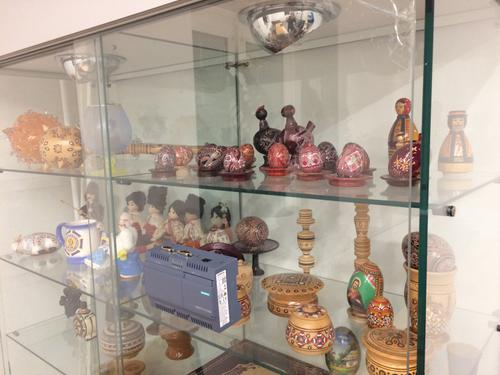iot2000: (143, 241, 243, 335)
